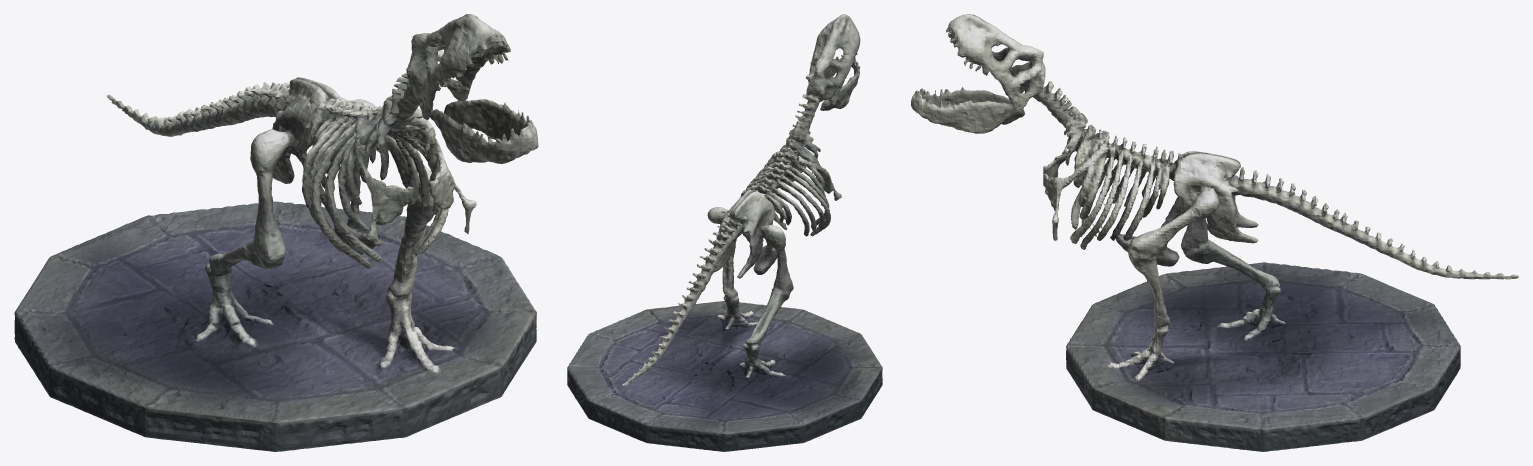
Rendered from trex_dgmesh.glb.
The picture shows the model from 3 angles, left to right: view 1: azimuth 30°, elevation 25°; view 2: azimuth 150°, elevation 25°; view 3: azimuth 270°, elevation 25°; orthographic projection. The views are drawn at different scales.
Visible parts, largest first — view 1: frame_4; view 2: frame_4; view 3: frame_4.
Part boxes in pixels (x1,y1,x2,y2): frame_4: (14, 14, 538, 451); frame_4: (567, 14, 882, 451); frame_4: (911, 14, 1518, 451).
Bounding box in the file's own units: 1.27 × 1.37 × 1.95.
